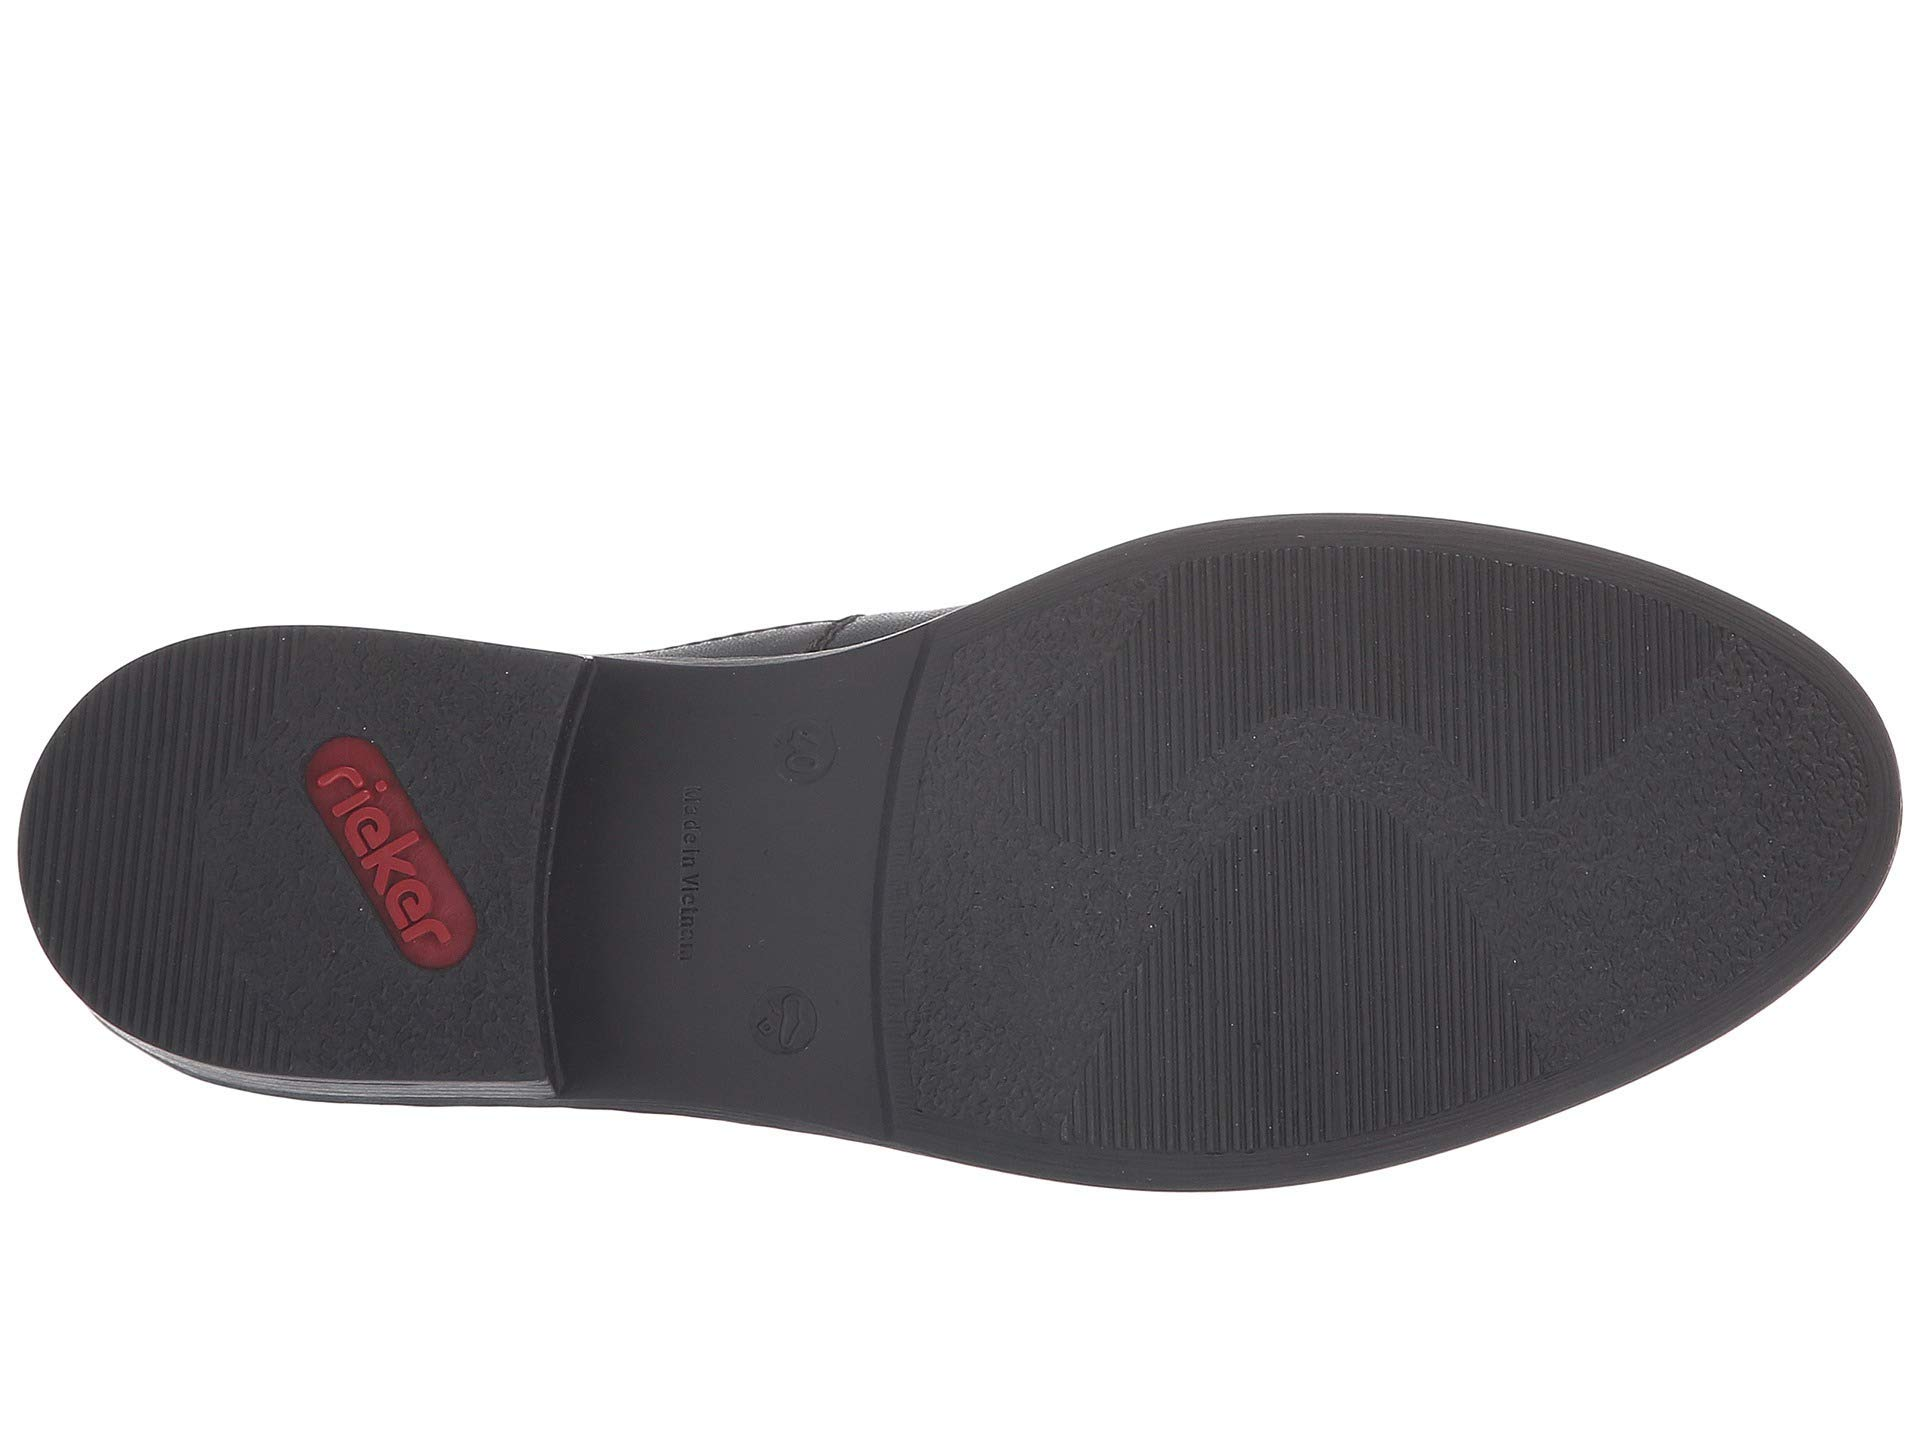line: (101, 723, 192, 983)
quad: (296, 734, 491, 991)
text: (296, 734, 491, 991)
